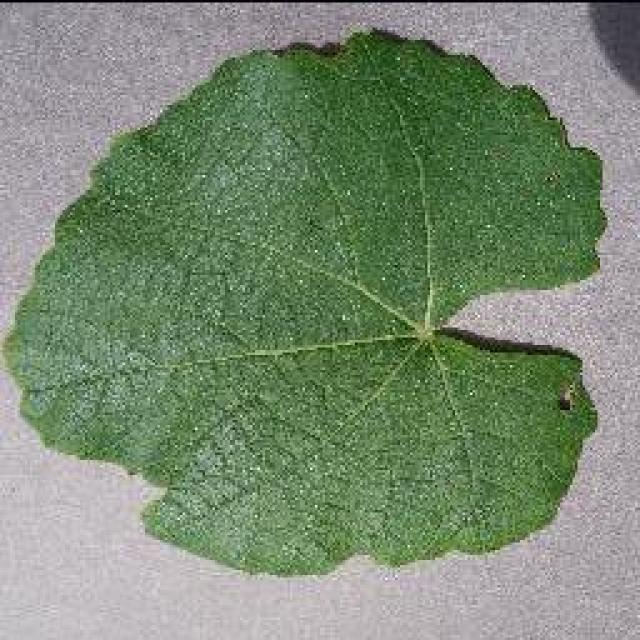Grape___healthy: (10, 30, 605, 572)
